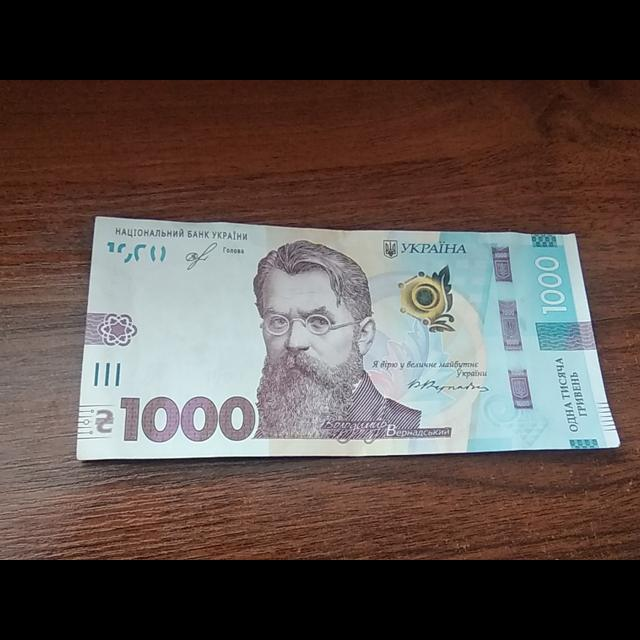1000uah: (78, 217, 619, 459)
